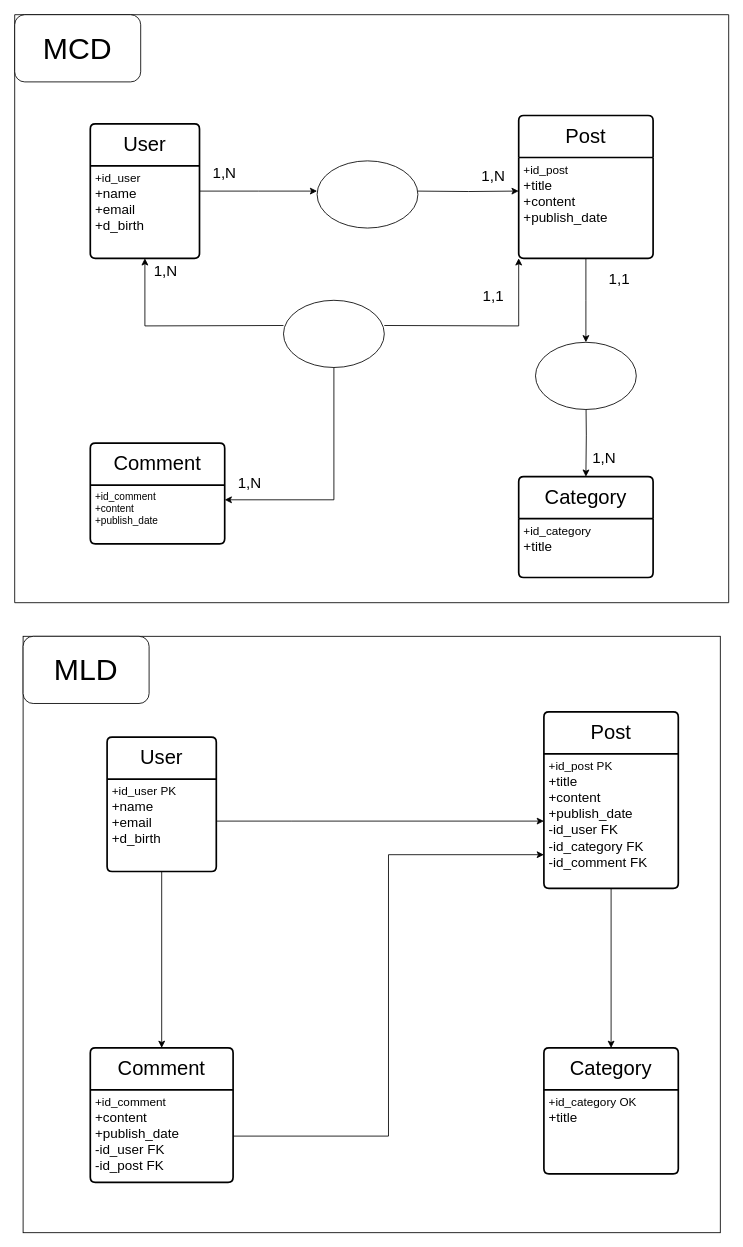
Image size: 743x1247. Some labels were removed from this diagram. Each missing label, with the centre of its shape:
ADD: (333,333)
BELONGS: (585,375)
WRITE: (367,194)
